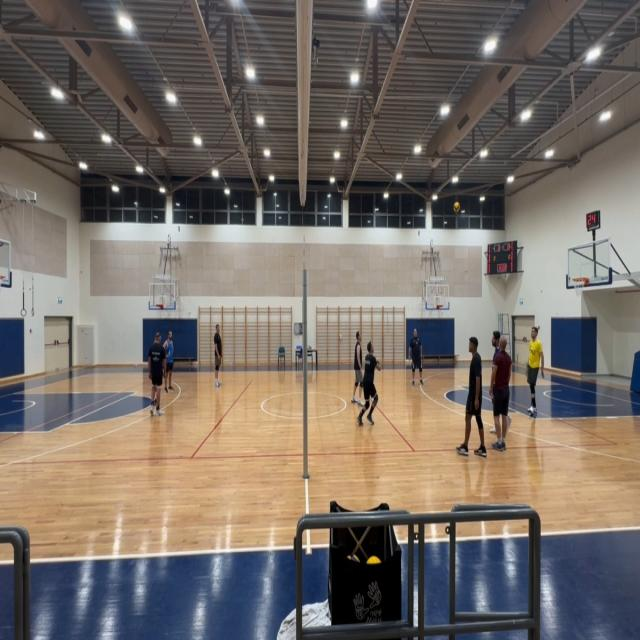volleyball: (453, 201, 460, 213)
